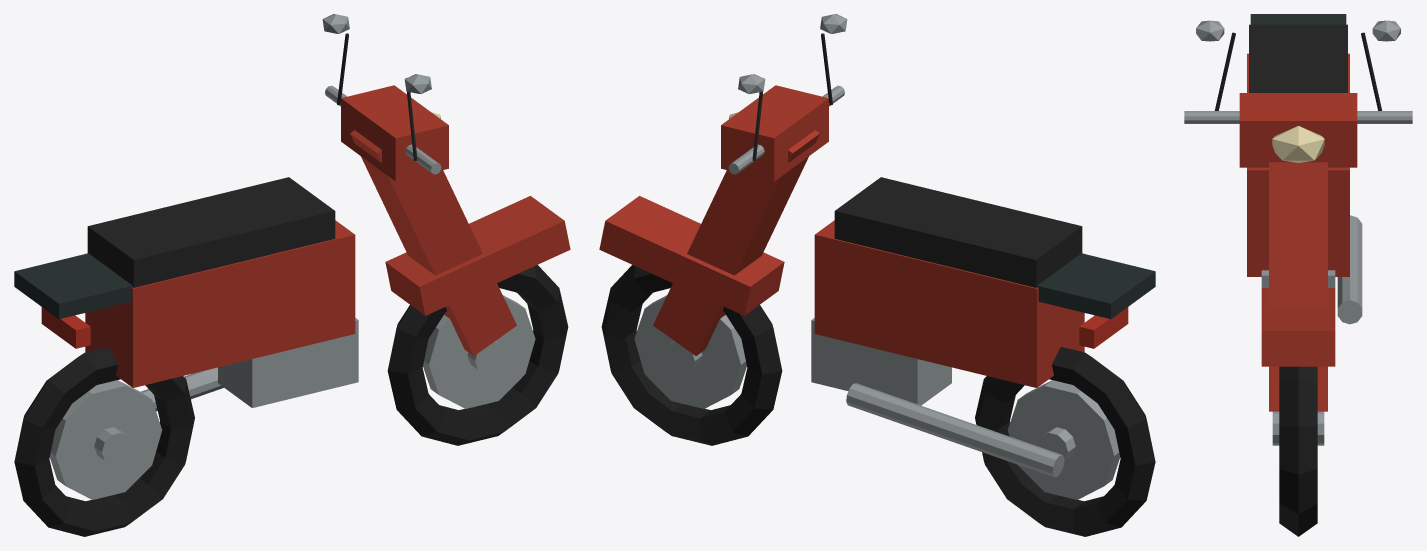
Rendered from xe_may_do.glb.
3 renders of one model, left to right at view 1: azimuth 30°, elevation 25°; view 2: azimuth 150°, elevation 25°; view 3: azimuth 270°, elevation 25°, orthographic. The views are drawn at different scales.
Parts seen in each view (by area): view 1: xe_may_do; view 2: xe_may_do; view 3: xe_may_do.
Boxes of the visible parts, x1,y1,x2,y2 form: xe_may_do: [14, 14, 570, 536]; xe_may_do: [599, 14, 1155, 536]; xe_may_do: [1184, 14, 1412, 536].
Bounding box in the file's own units: 1.87 × 1.36 × 0.62.
